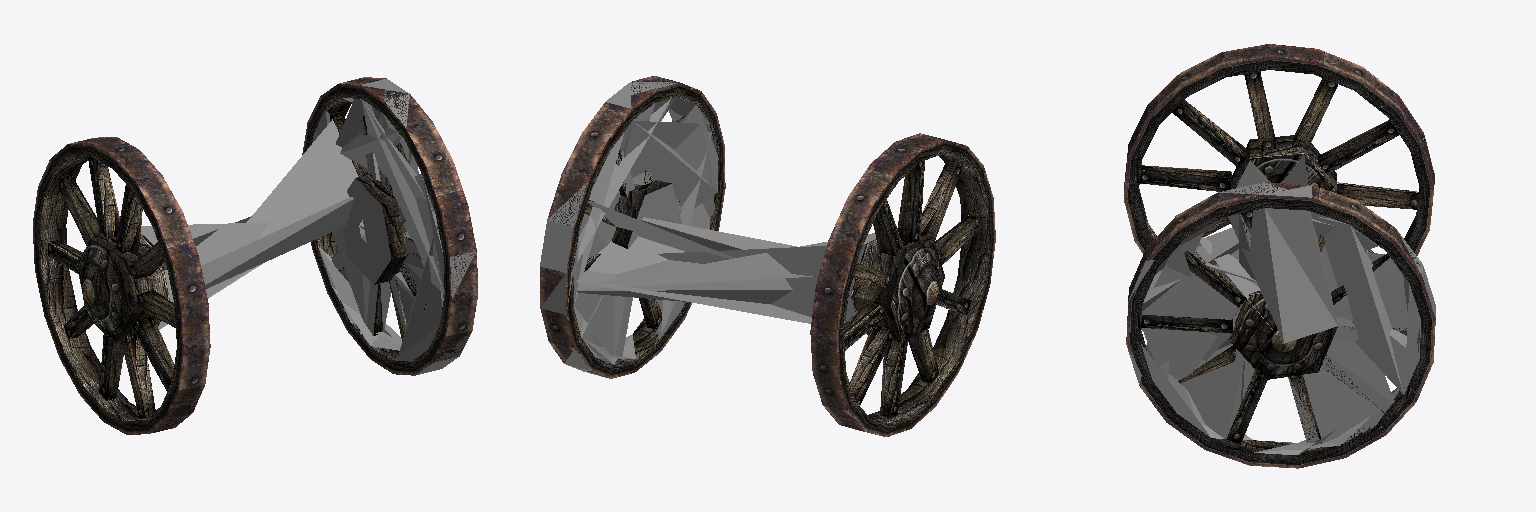
3 renders of one model, left to right at view 1: azimuth 30°, elevation 25°; view 2: azimuth 150°, elevation 25°; view 3: azimuth 270°, elevation 25°, orthographic.
Visible parts, largest first — view 1: Wheels, UpperPiece, Lower_Piece; view 2: Wheels, UpperPiece; view 3: Wheels, UpperPiece.
Part boxes in pixels (x1,y1,x2,y2): Wheels: (33,77,477,434); UpperPiece: (141,79,476,375); Lower_Piece: (342,179,390,283); Wheels: (540,76,995,436); UpperPiece: (540,82,875,377); Wheels: (1124,44,1435,468); UpperPiece: (1127,155,1435,454).
Bounding box in the file's own units: 2.51 × 1.96 × 1.99.
2 materials, 1 textured.